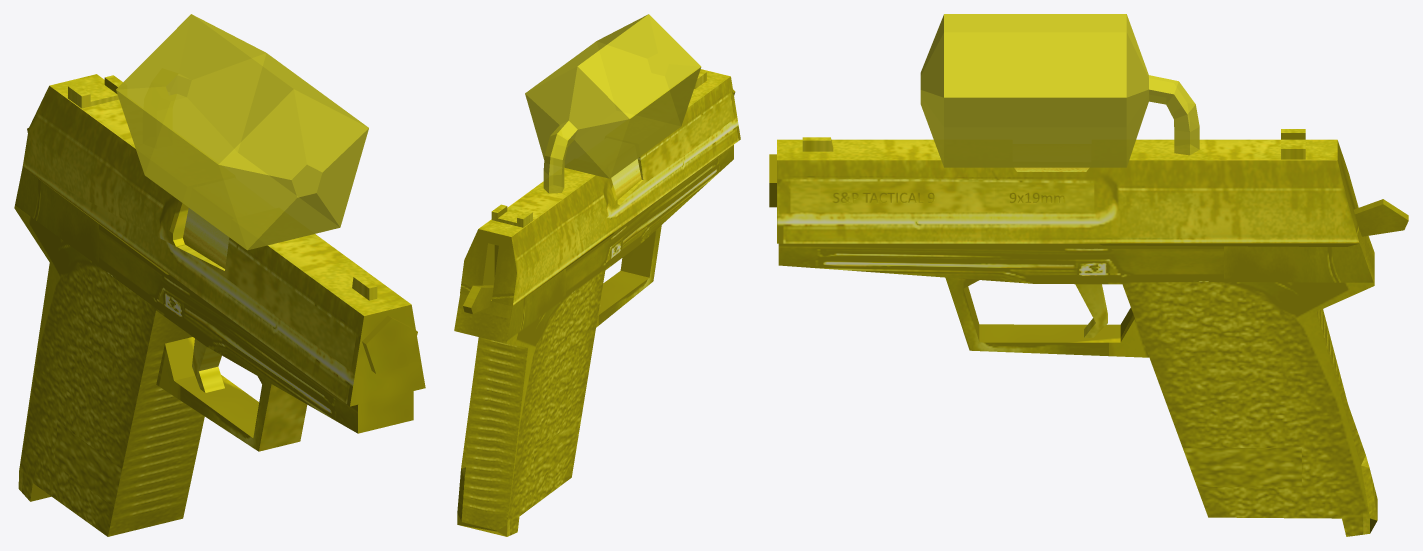
File: pisstol.fbx
3 views of the same model, side by side, from view 1: azimuth 30°, elevation 25°; view 2: azimuth 150°, elevation 25°; view 3: azimuth 270°, elevation 25° (orthographic). The views are drawn at different scales.
Visible parts, largest first — view 1: usp-reference, Cylinder; view 2: usp-reference, Cylinder; view 3: usp-reference, Cylinder.
Boxes of the visible parts, x1,y1,x2,y2 form: usp-reference: (14, 74, 425, 536); Cylinder: (116, 14, 368, 250); usp-reference: (454, 69, 740, 536); Cylinder: (525, 14, 701, 193); usp-reference: (769, 129, 1408, 536); Cylinder: (920, 14, 1199, 167).
Size of the model in its own units: 12.84 by 46.34 by 53.03.
